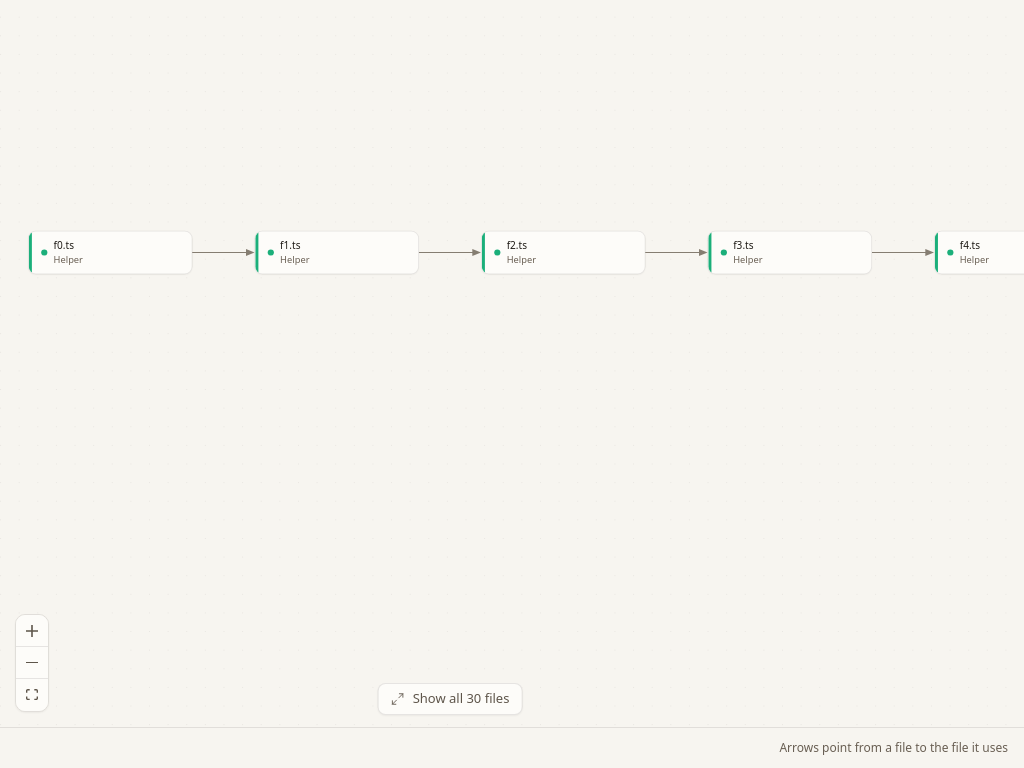
Test case: first view › opens a big map as a readable close-up with a button to see everything
Click the button with test id "flow-view-toggle".
click(450, 699)  # box 378,683 -> 522,715
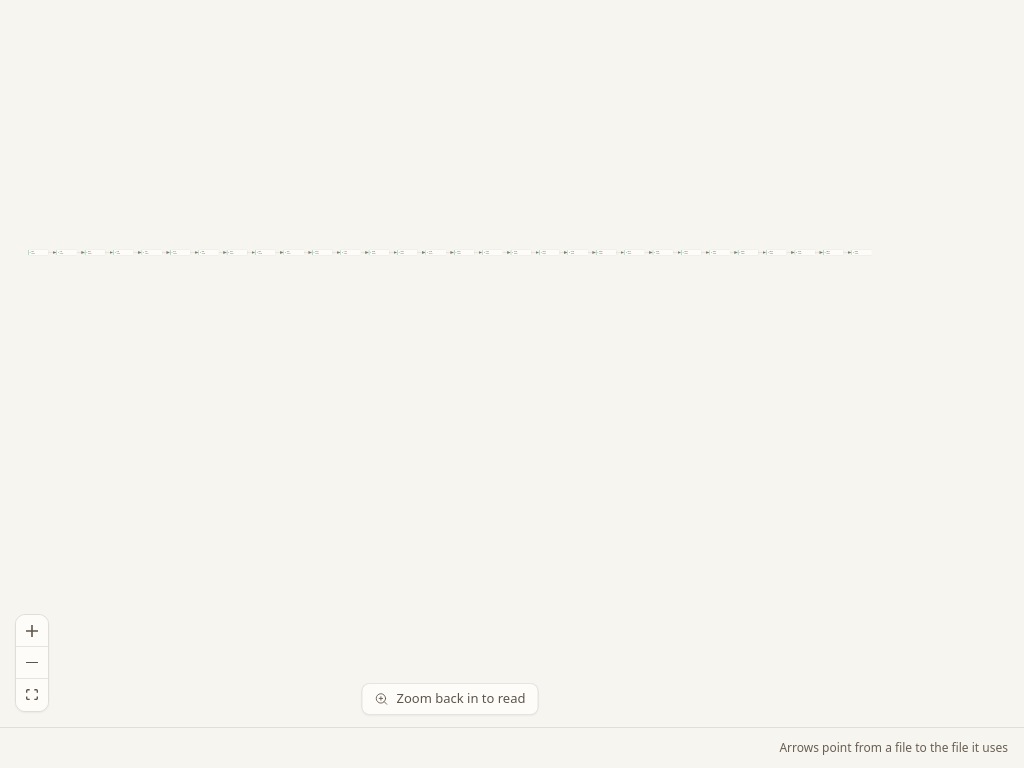
Expected: the button with test id "flow-view-toggle" reads "Zoom back in to read", 362,683 -> 538,715
